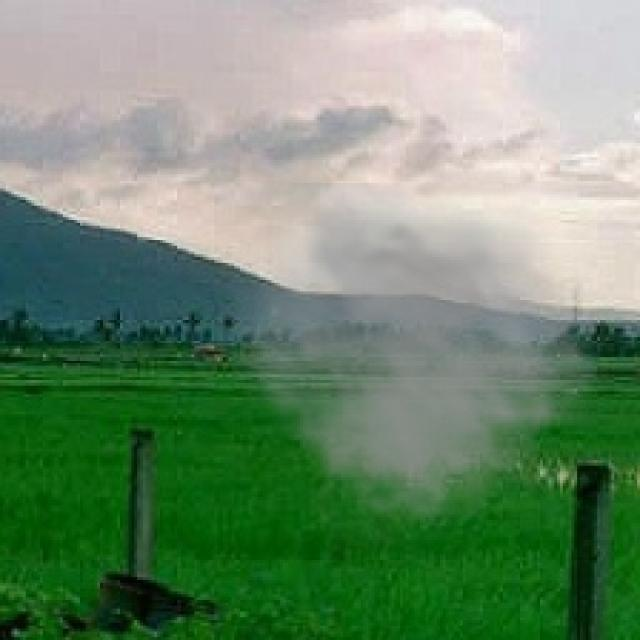Smoke: (212, 183, 617, 563)
